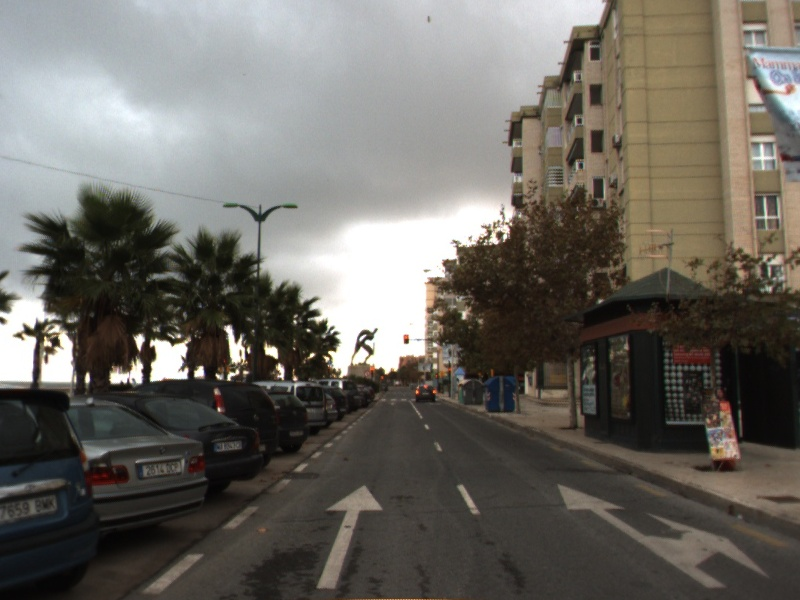STRAIGHT: (315, 483, 385, 590)
STRAIGHT_RIGHT: (556, 482, 774, 589)
